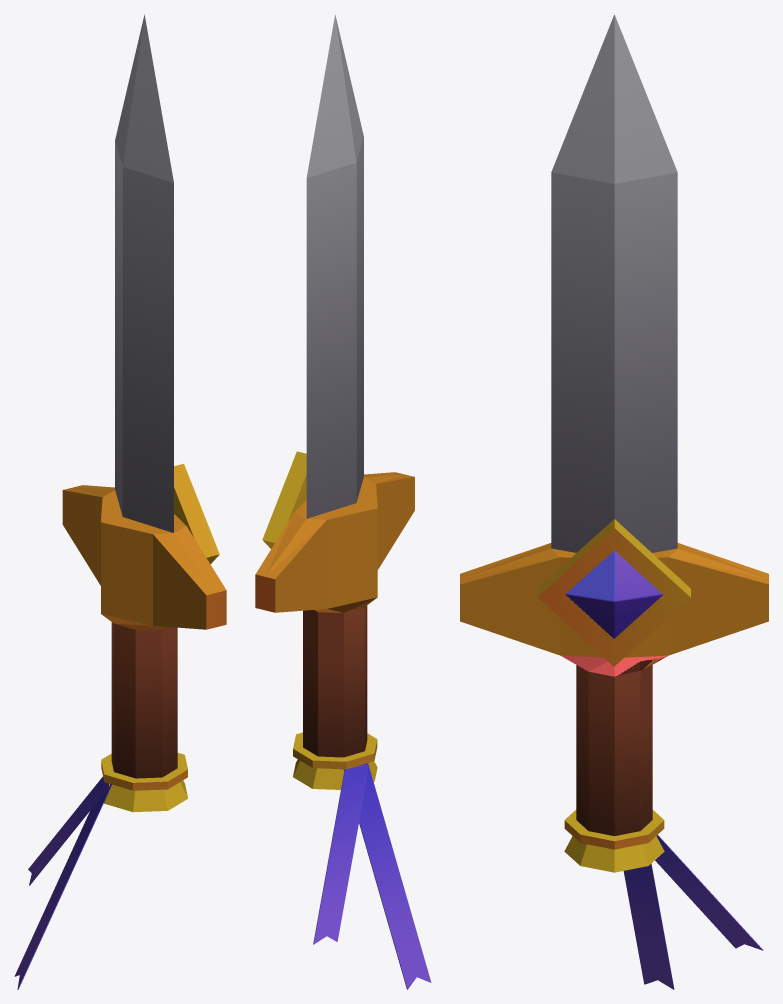
Rendered from new_cool_knife.fbx.
The picture shows the model from 3 angles, left to right: view 1: azimuth 30°, elevation 25°; view 2: azimuth 150°, elevation 25°; view 3: azimuth 270°, elevation 25°; orthographic projection. The views are drawn at different scales.
Parts seen in each view (by area): view 1: pCube6; view 2: pCube6; view 3: pCube6.
Part boxes in pixels (box(x1,y1,x2,y2)): pCube6: box(14, 14, 226, 989); pCube6: box(255, 15, 431, 989); pCube6: box(460, 15, 768, 989).
Size of the model in its own units: 19.04 by 105 by 28.46.
